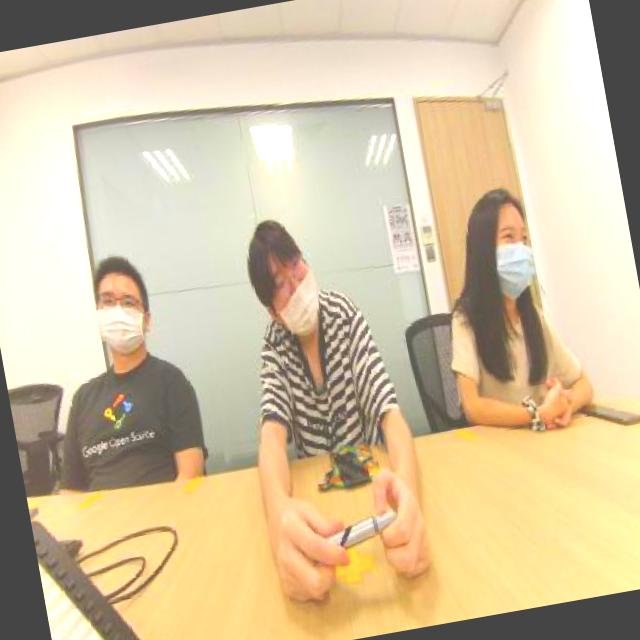Person: (188, 176, 420, 469), (19, 214, 230, 518), (400, 163, 599, 442)
